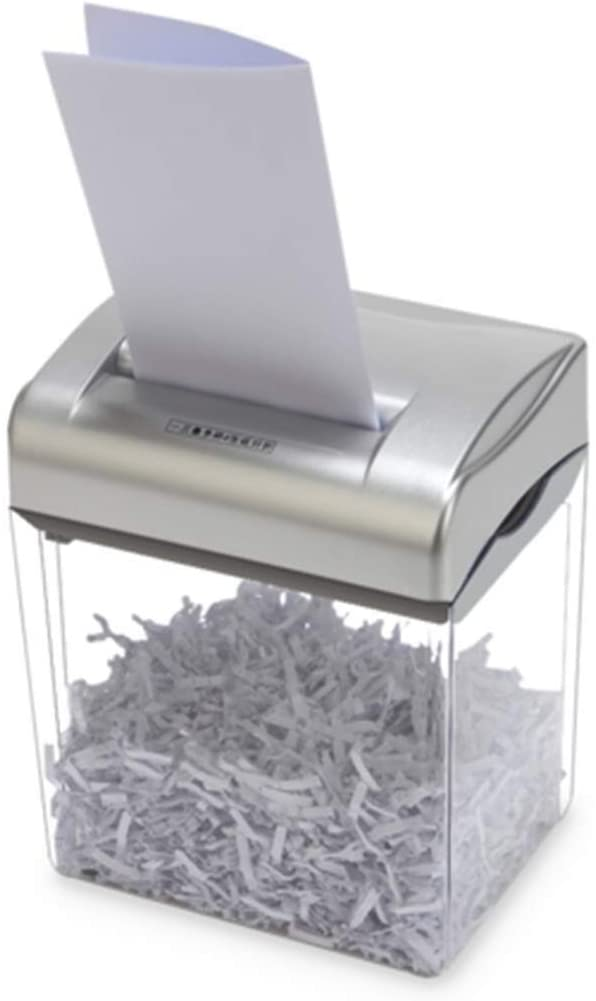paper: (18, 1, 467, 450)
